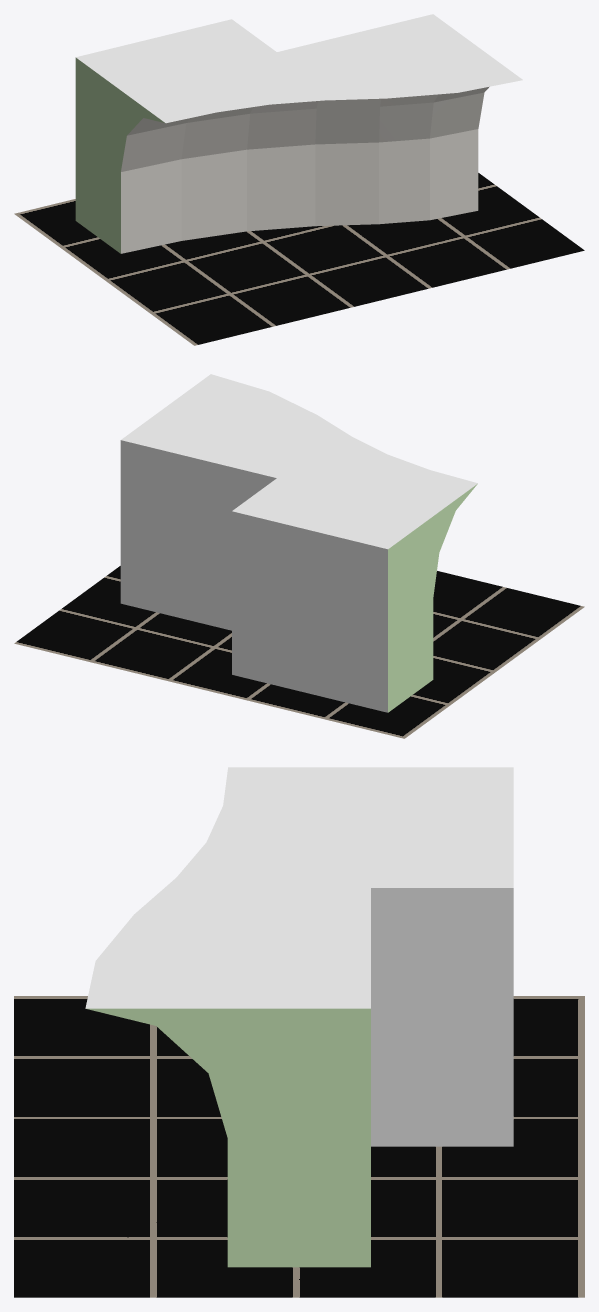
Rendered from Wall_Esse_3x4_Top.glb.
3 views of the same model, one above another, from view 1: azimuth 30°, elevation 25°; view 2: azimuth 150°, elevation 25°; view 3: azimuth 270°, elevation 25° (orthographic). The views are drawn at different scales.
Visible parts, largest first — view 1: Wall_Esse_3x4_Top, Floor; view 2: Wall_Esse_3x4_Top, Floor; view 3: Wall_Esse_3x4_Top, Floor.
Part boxes in pixels (x1=…): Wall_Esse_3x4_Top: x1=75, y1=14, x2=522, y2=253; Floor: x1=14, y1=173, x2=584, y2=345; Wall_Esse_3x4_Top: x1=120, y1=374, x2=477, y2=712; Floor: x1=14, y1=566, x2=584, y2=738; Wall_Esse_3x4_Top: x1=85, y1=767, x2=513, y2=1267; Floor: x1=14, y1=996, x2=584, y2=1297.
Bounding box in the file's own units: 500 × 200 × 400.
5 materials, 1 textured.
